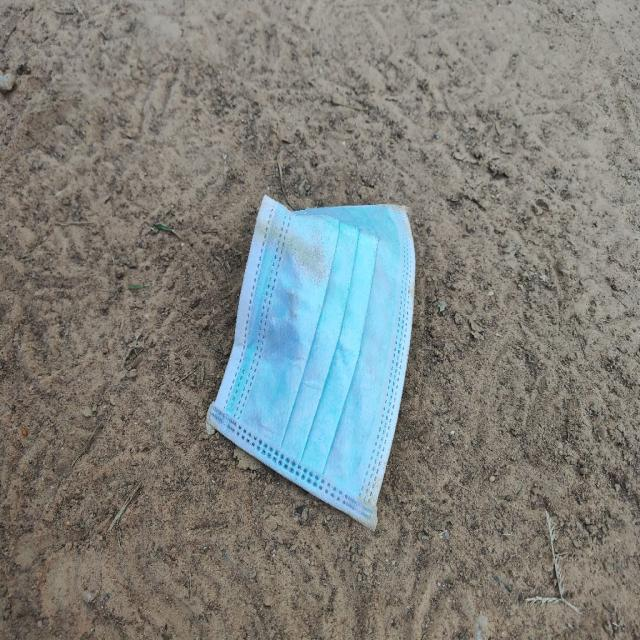non-organic waste: (206, 189, 413, 529)
